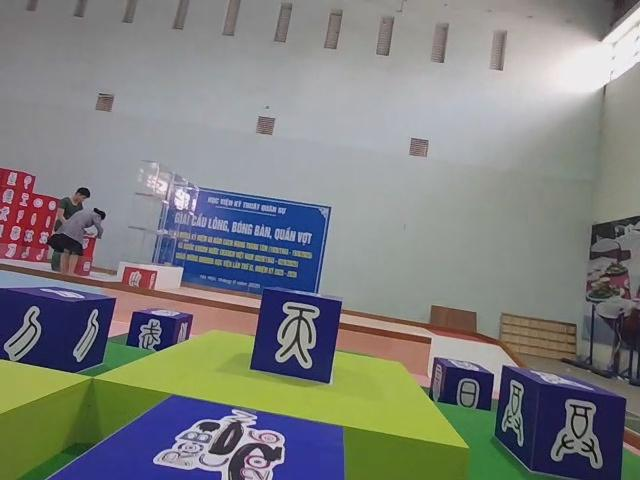R1 Blue: (44, 394, 342, 480)
R2 Fake Blue: (250, 287, 343, 386), (428, 357, 493, 412), (127, 308, 193, 352)
R2 Real Blue: (495, 369, 626, 480), (1, 286, 117, 374)
